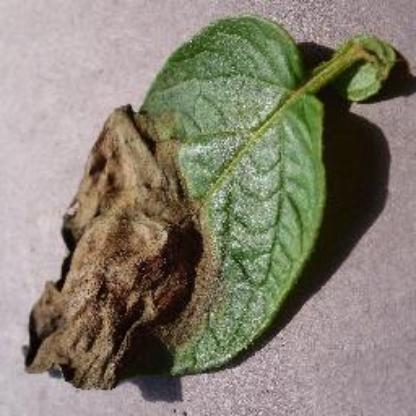Late-Blight: (22, 24, 396, 390)
